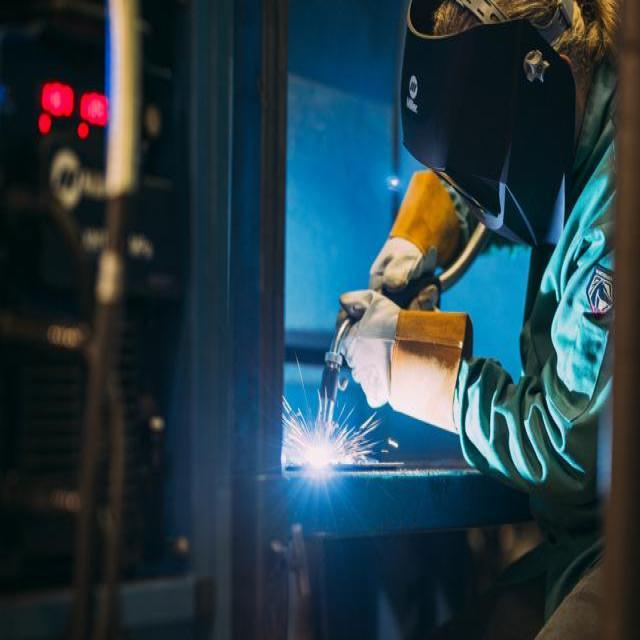with_helmet: (401, 0, 575, 245)
